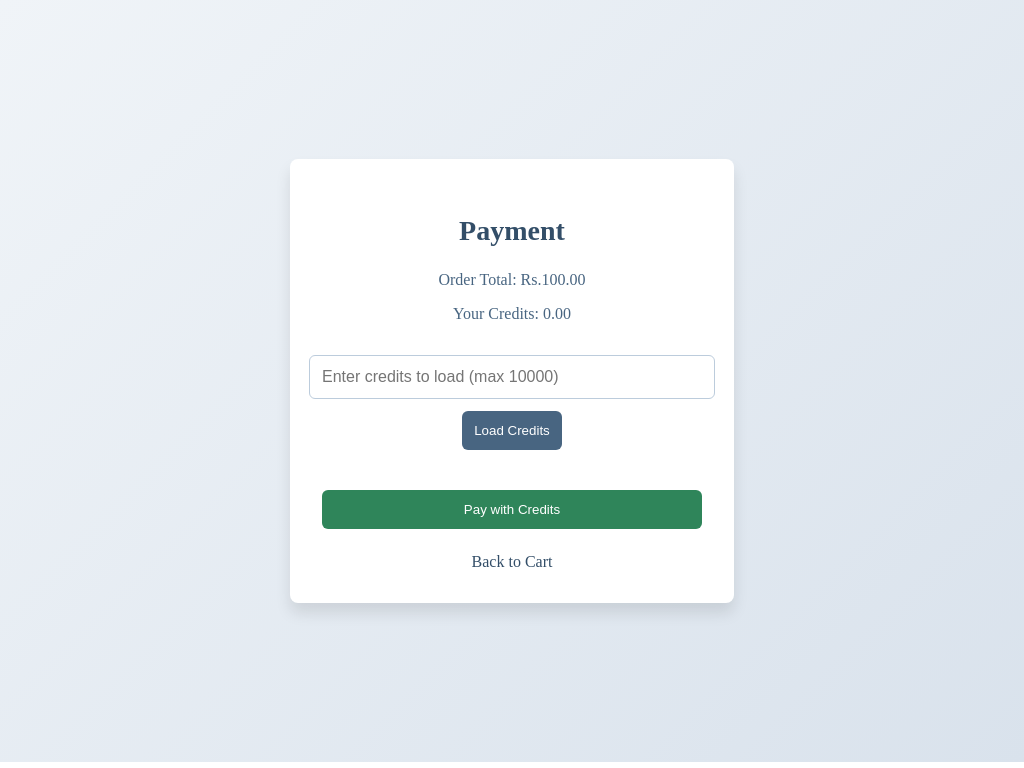
Test: PaymentPage › shows error when invalid credit amount is entered
Type "-5" into the number field with placeholder "Enter credits to load (max 10000)" at coordinates (512, 377), box 309,355 -> 715,399
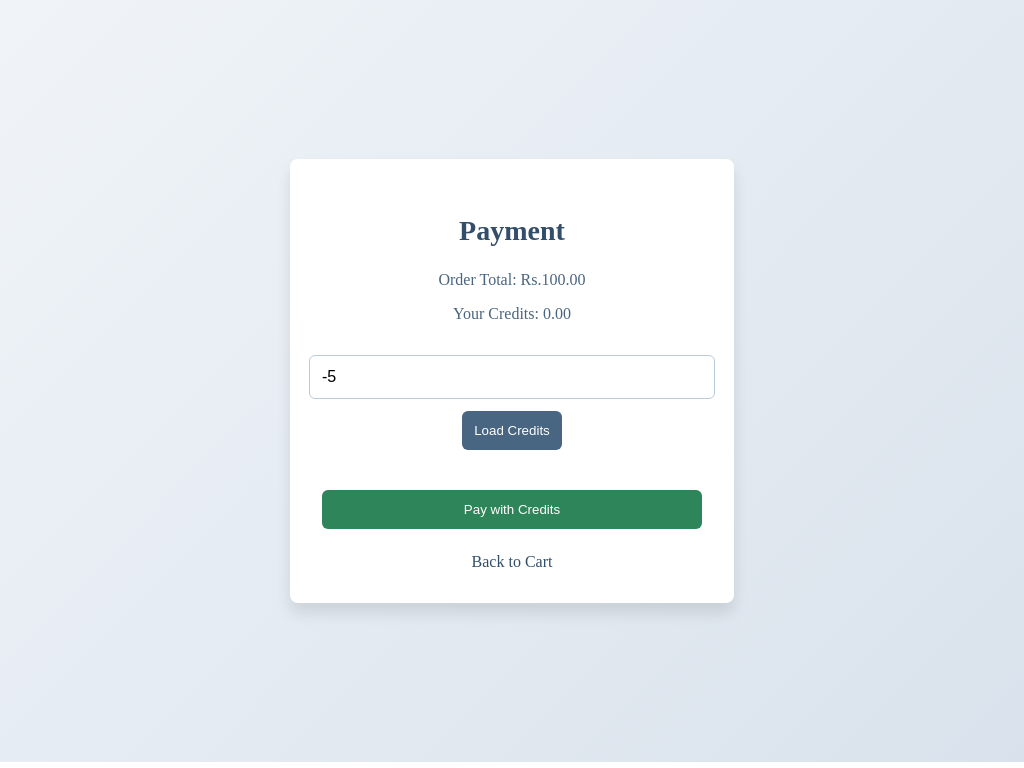
Click the button "Load Credits" at coordinates (512, 430), box 462,411 -> 562,450
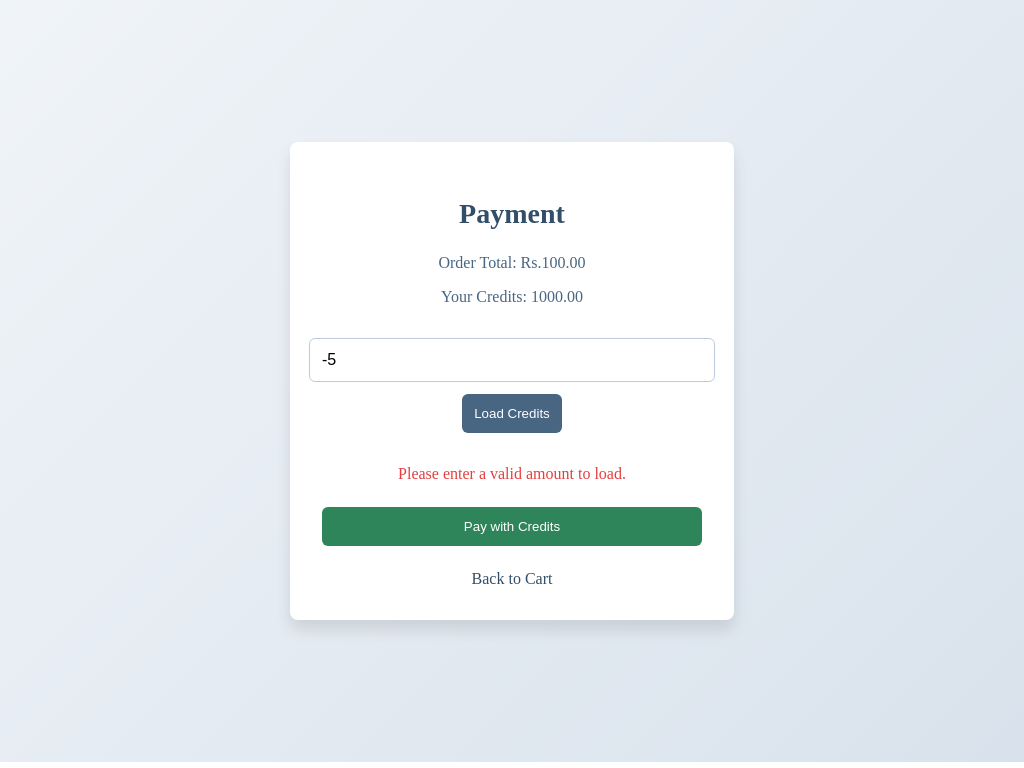
Now the text "Please enter a valid amount to load." is shown, box 398,465 -> 626,482
